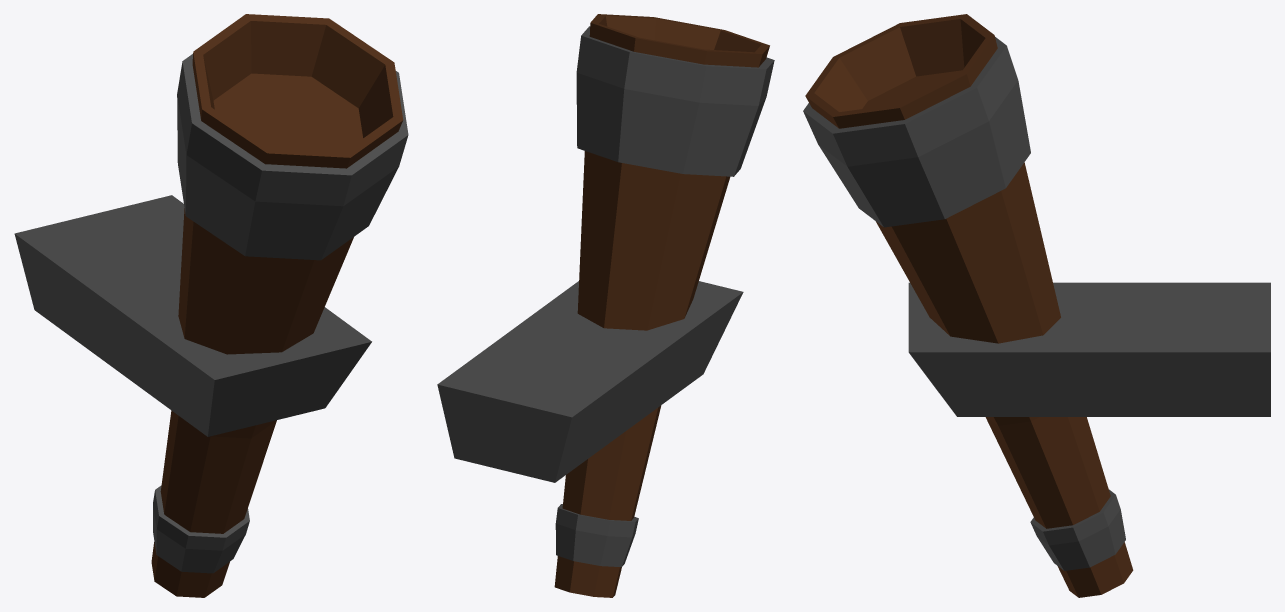
Rendered from Torch.fbx.
3 views of the same model, side by side, from view 1: azimuth 30°, elevation 25°; view 2: azimuth 150°, elevation 25°; view 3: azimuth 270°, elevation 25° (orthographic). The views are drawn at different scales.
Visible parts, largest first — view 1: Cylinder.002, Cube, Cylinder.001, Cylinder.003; view 2: Cylinder.002, Cube, Cylinder.001, Cylinder.003; view 3: Cylinder.002, Cube, Cylinder.001, Cylinder.003.
Part boxes in pixels (left/top/right/bottom): Cylinder.002: left=151, top=14, right=403, bottom=597; Cube: left=14, top=195, right=371, bottom=436; Cylinder.001: left=177, top=54, right=408, bottom=260; Cylinder.003: left=153, top=485, right=249, bottom=573; Cylinder.002: left=554, top=14, right=769, bottom=597; Cube: left=437, top=281, right=743, bottom=482; Cylinder.001: left=576, top=26, right=774, bottom=176; Cylinder.003: left=555, top=504, right=638, bottom=567; Cylinder.002: left=805, top=14, right=1133, bottom=597; Cube: left=908, top=282, right=1270, bottom=416; Cylinder.001: left=803, top=37, right=1030, bottom=227; Cylinder.003: left=1030, top=489, right=1125, bottom=570.
Size of the model in its own units: 31.9 by 90.47 by 69.04.
